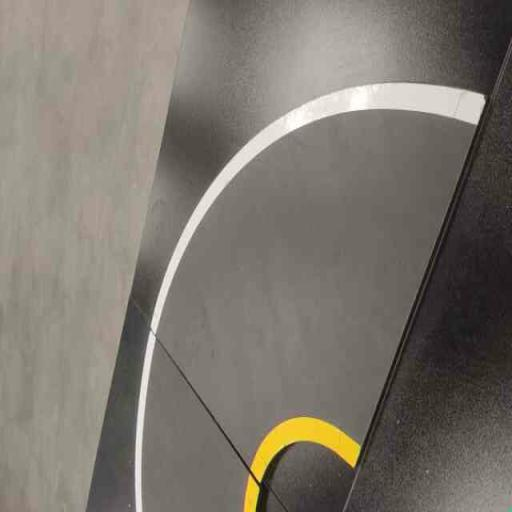left: (137, 11, 494, 484)
